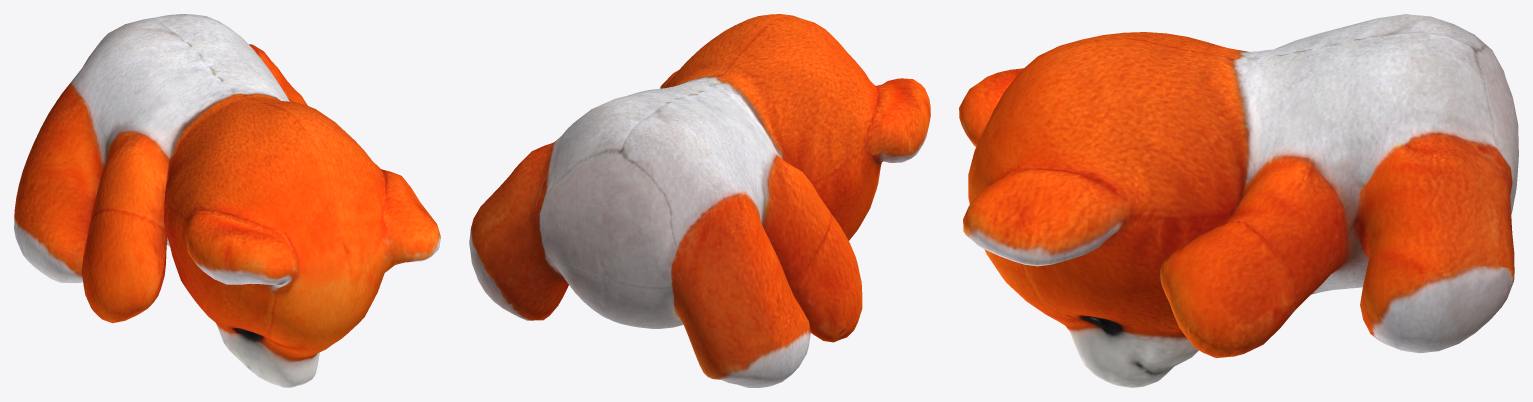
3 views of the same model, side by side, from view 1: azimuth 30°, elevation 25°; view 2: azimuth 150°, elevation 25°; view 3: azimuth 270°, elevation 25° (orthographic). The views are drawn at different scales.
Parts seen in each view (by area): view 1: Plane_0; view 2: Plane_0; view 3: Plane_0.
Boxes of the visible parts, x1,y1,x2,y2 form: Plane_0: [14, 14, 440, 387]; Plane_0: [469, 14, 930, 387]; Plane_0: [959, 14, 1518, 387].
Size of the model in its own units: 0.0426 by 0.0386 by 0.0564.
Materials: 1 (1 with a texture image).
